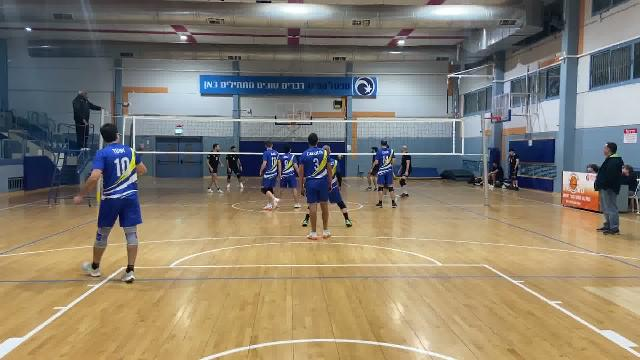ball: (334, 151, 346, 162)
